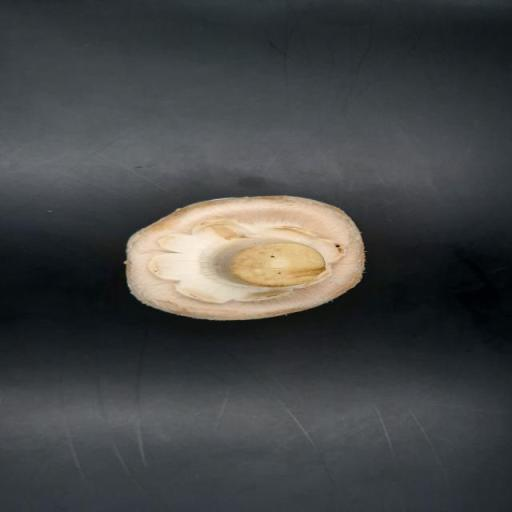mushroom: (121, 192, 368, 326)
